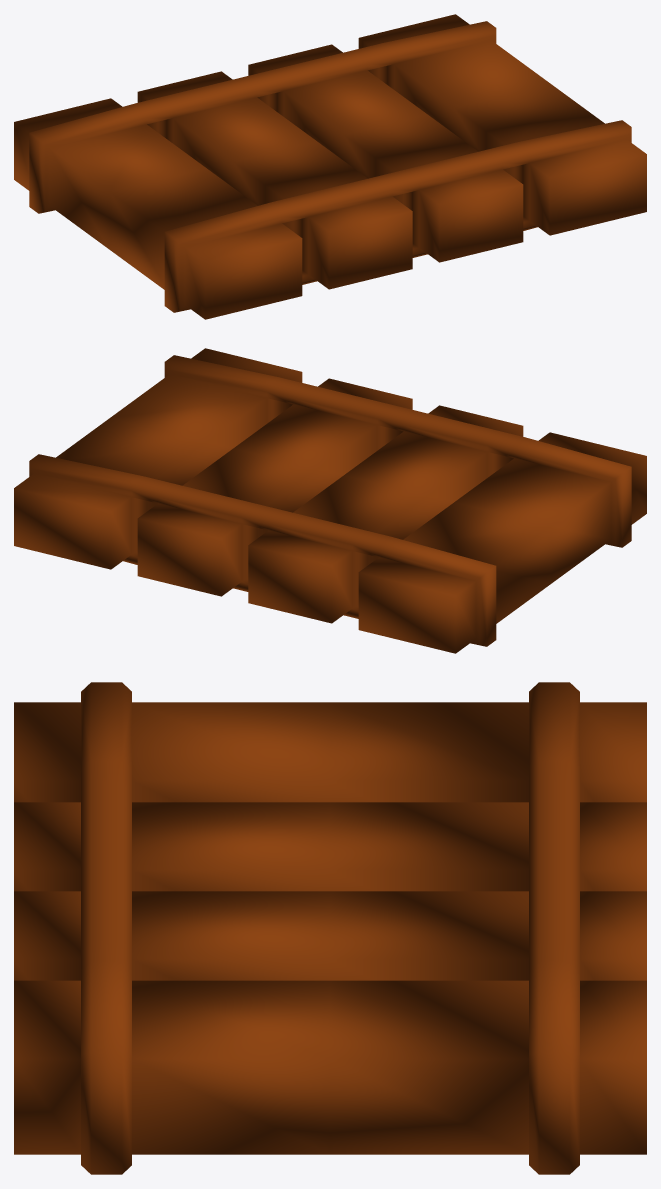
Rendered from R4YL_PROP_platform002.FBX.
3 renders of one model, top to bottom at view 1: azimuth 30°, elevation 25°; view 2: azimuth 150°, elevation 25°; view 3: azimuth 270°, elevation 25°, orthographic. The views are drawn at different scales.
Visible parts, largest first — view 1: R4YL_PROP_platform002; view 2: R4YL_PROP_platform002; view 3: R4YL_PROP_platform002.
Boxes of the visible parts, <box> form: R4YL_PROP_platform002: <box>14,14,646,319</box>; R4YL_PROP_platform002: <box>14,348,646,653</box>; R4YL_PROP_platform002: <box>14,682,646,1174</box>.
Size of the model in its own units: 81.56 by 13.83 by 59.06.
